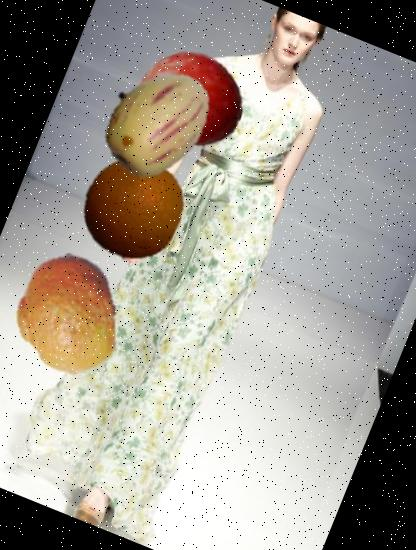Grape: (120, 31, 259, 170)
Mandarine: (0, 235, 145, 394)
Orange: (65, 140, 200, 276)
Pepino: (79, 46, 231, 198)
